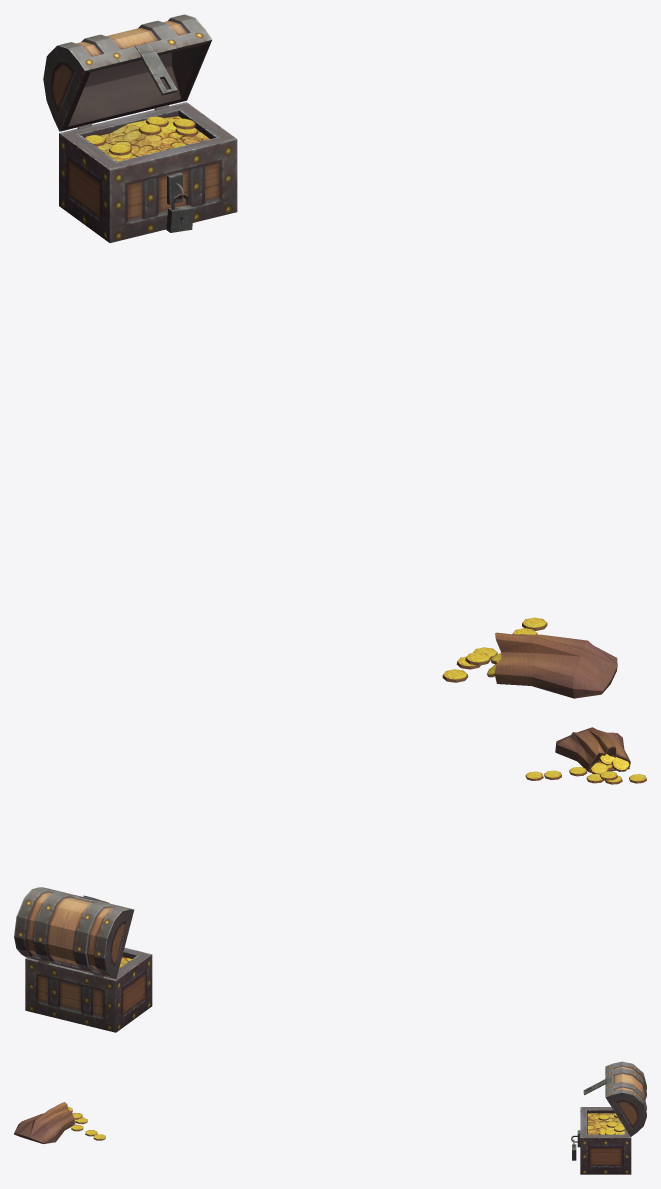
Rendered from Area_06_30.fbx.
3 views of the same model, one above another, from view 1: azimuth 30°, elevation 25°; view 2: azimuth 150°, elevation 25°; view 3: azimuth 270°, elevation 25° (orthographic). The views are drawn at different scales.
Parts seen in each view (by area): view 1: Area_06_30; view 2: Area_06_30; view 3: Area_06_30.
Part boxes in pixels (box(x1,y1,x2,y2)): Area_06_30: box(43, 14, 617, 698); Area_06_30: box(14, 727, 646, 1032); Area_06_30: box(14, 1061, 646, 1174).
Bounding box in the file's own units: 380 × 219 × 1361.
